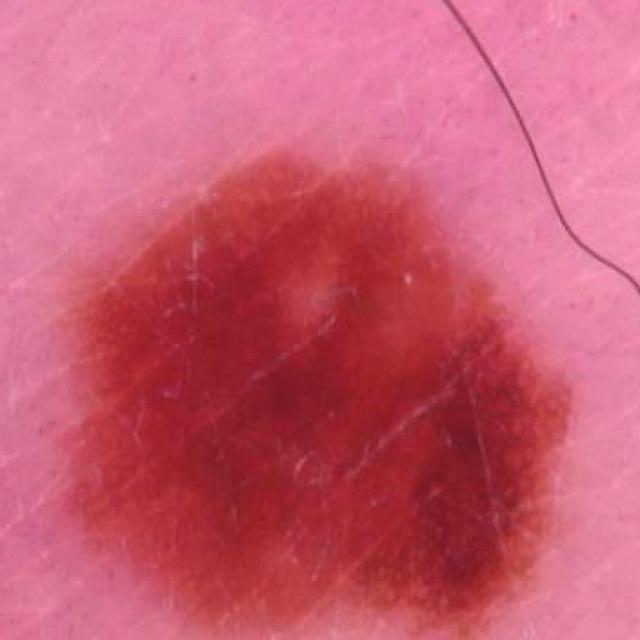NV: (21, 161, 584, 640)
